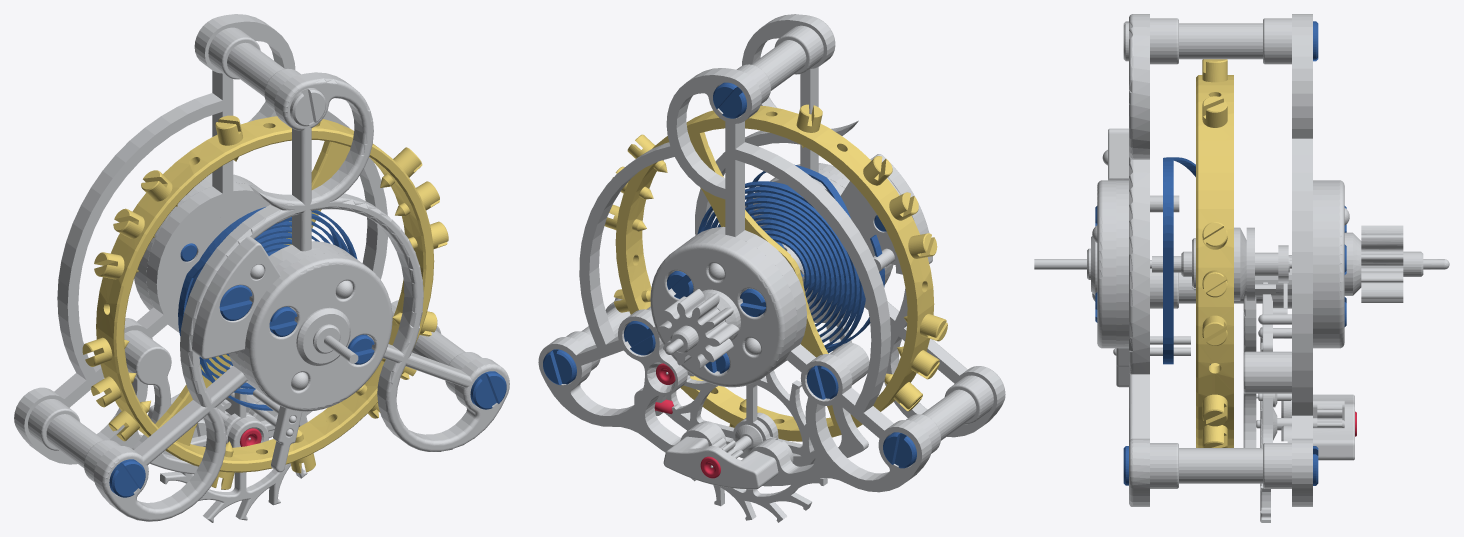
The model's file is tourbillon_web.glb.
The picture shows the model from 3 angles, left to right: view 1: azimuth 30°, elevation 25°; view 2: azimuth 150°, elevation 25°; view 3: azimuth 270°, elevation 25°; orthographic projection. The views are drawn at different scales.
Visible parts, largest first — view 1: ÃÃÂ¿Ã²Â¼Ã12 (×2), Â°ÃÃÃ12, ÃÃÂ¸Ã12 (×2), ÃÃÃÂ¿Â¹ÃÂ¶Â¨Â¼ÃÂ°Ã¥12, ÃÃÃÃÃÂµÃÂ³ÃÃÂ¼ÃÂ°Ã¥12, ÃÃÃÂ¿12, ÃÃÃÃ¹12, ÃÃÃÃ¹001, ÃÃÃÃÃÃ12, ÃÃÃÃÃÃ¡12, Â¿Ã¬ÃÃ½Â¼Ã12, ÃÃÃÃ¹002 (+14 smaller); view 2: ÃÃÂ¿Ã²Â¼Ã12 (×2), Â°ÃÃÃ12, ÃÃÂ¸Ã12, ÃÃÃÂ¿12, ÃÃÃÃÃÃ12, ÃÃÃÃ¡Â³Ã12, ÃÃÃÃÃÃÃÃ12, ÃÃÃÃ¹12, ÃÃÃÃ¹001, ÃÃÃÃÃÂµÃÂ³ÃÃÂ¼ÃÂ°Ã¥12, ÃÃÂ·ÃÃÃÃÃÃÃ¡12, Â¿Ã²Â¼ÃÃÃÂ¶Â¤003 (+16 smaller); view 3: ÃÃÂ¿Ã²Â¼Ã12 (×2), Â°ÃÃÃ12, ÃÃÂ¸Ã12 (×2), ÃÃÃÃ¹12, ÃÃÃÃ¹002, ÃÃÃÃÃÂµÃÂ³ÃÃÂ¼ÃÂ°Ã¥12, ÃÃÃÃ¡Â³Ã12, Â¿Ã¬ÃÃ½Â¼Ã12, ÃÃÃÂ¿12, ÃÃÃÃÃÃÃÃ12, ÃÃÂ·ÃÃÃÃÃÃÃ¡12, ÃÂ«ÃÂ²ÃÃ12 (+14 smaller).
Boxes of the visible parts, x1,y1,x2,y2 form: ÃÃÂ¿Ã²Â¼Ã12 (×2): [14, 14, 509, 521]; Â°ÃÃÃ12: [96, 116, 434, 472]; ÃÃÂ¸Ã12 (×2): [134, 173, 392, 411]; ÃÃÃÂ¿Â¹ÃÂ¶Â¨Â¼ÃÂ°Ã¥12: [192, 236, 280, 359]; ÃÃÃÃÃÂµÃÂ³ÃÃÂ¼ÃÂ°Ã¥12: [124, 330, 268, 474]; ÃÃÃÂ¿12: [178, 207, 357, 410]; ÃÃÃÃ¹12: [208, 27, 300, 110]; ÃÃÃÃ¹001: [28, 399, 120, 481]; ÃÃÃÃÃÃ12: [160, 365, 307, 522]; ÃÃÃÃÃÃ¡12: [296, 307, 358, 365]; Â¿Ã¬ÃÃ½Â¼Ã12: [237, 248, 359, 472]; ÃÃÃÃ¹002: [412, 325, 481, 393]; ÃÃÂ¿Ã²Â¼Ã12 (×2): [538, 14, 1005, 492]; Â°ÃÃÃ12: [615, 105, 934, 441]; ÃÃÂ¸Ã12: [650, 234, 797, 387]; ÃÃÃÂ¿12: [697, 164, 884, 353]; ÃÃÃÃÃÃ12: [672, 370, 827, 522]; ÃÃÃÃ¡Â³Ã12: [657, 289, 738, 369]; ÃÃÃÃÃÃÃÃ12: [663, 436, 778, 489]; ÃÃÃÃ¹12: [736, 25, 823, 103]; ÃÃÃÃ¹001: [906, 375, 993, 453]; ÃÃÃÃÃÂµÃÂ³ÃÃÂ¼ÃÂ°Ã¥12: [646, 306, 869, 466]; ÃÃÂ·ÃÃÃÃÃÃÃ¡12: [665, 289, 740, 354]; Â¿Ã²Â¼ÃÃÃÂ¶Â¤003: [543, 349, 576, 385]; ÃÃÂ¿Ã²Â¼Ã12 (×2): [1129, 14, 1312, 506]; Â°ÃÃÃ12: [1196, 75, 1233, 447]; ÃÃÂ¸Ã12 (×2): [1097, 180, 1344, 348]; ÃÃÃÃ¹12: [1150, 18, 1291, 64]; ÃÃÃÃ¹002: [1150, 443, 1291, 488]; ÃÃÃÃÃÂµÃÂ³ÃÃÂ¼ÃÂ°Ã¥12: [1243, 255, 1291, 447]; ÃÃÃÃ¡Â³Ã12: [1361, 225, 1403, 302]; Â¿Ã¬ÃÃ½Â¼Ã12: [1116, 180, 1128, 387]; ÃÃÃÂ¿12: [1163, 157, 1210, 364]; ÃÃÃÃÃÃÃÃ12: [1313, 394, 1354, 460]; ÃÃÂ·ÃÃÃÃÃÃÃ¡12: [1344, 232, 1449, 295]; ÃÂ«ÃÂ²ÃÃ12: [1246, 227, 1288, 300].
Bounding box in the file's own units: 2.29 × 2.62 × 1.98.
